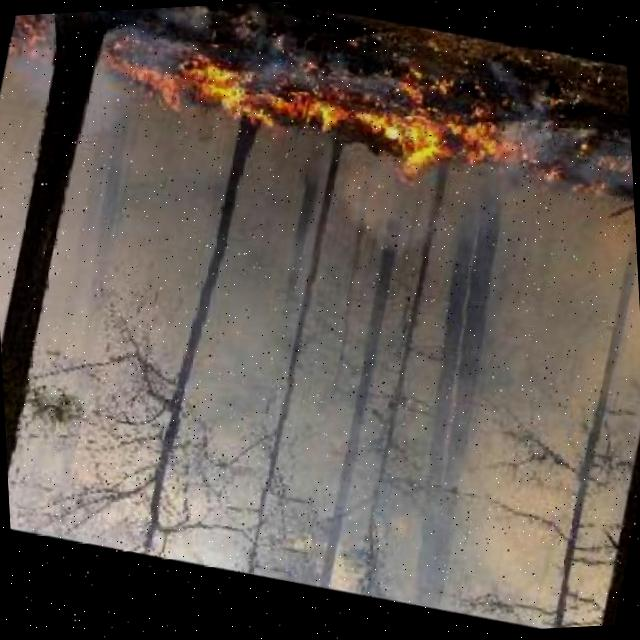fire: (0, 85, 640, 640), (180, 53, 515, 214), (8, 0, 407, 127), (512, 155, 616, 221), (468, 54, 557, 122), (498, 108, 582, 173), (563, 132, 634, 196), (386, 56, 461, 112), (459, 93, 505, 131)
